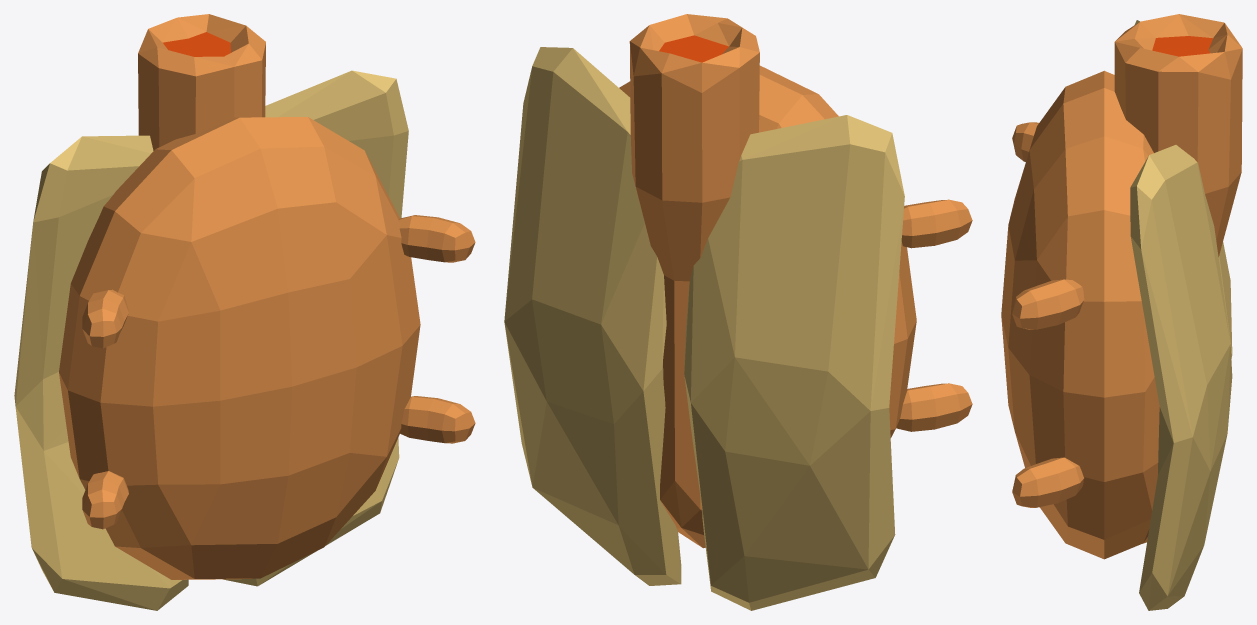
File: Imp.fbx
3 views of the same model, side by side, from view 1: azimuth 30°, elevation 25°; view 2: azimuth 150°, elevation 25°; view 3: azimuth 270°, elevation 25° (orthographic). The views are drawn at different scales.
Parts seen in each view (by area): view 1: Body; view 2: Body; view 3: Body.
Part boxes in pixels (<box>): Body: <box>14,14,475,610</box>; Body: <box>504,14,972,610</box>; Body: <box>1001,14,1242,610</box>.
Size of the model in its own units: 179 by 247 by 98.34.
